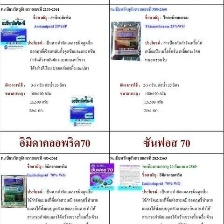insecticide: (109, 19, 142, 63), (0, 14, 30, 53), (66, 90, 96, 129), (0, 174, 30, 211), (86, 162, 115, 192)
